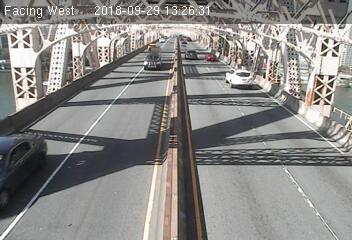car: (1, 131, 58, 212), (224, 68, 254, 91), (142, 51, 163, 70), (203, 51, 218, 61), (185, 50, 198, 59)
